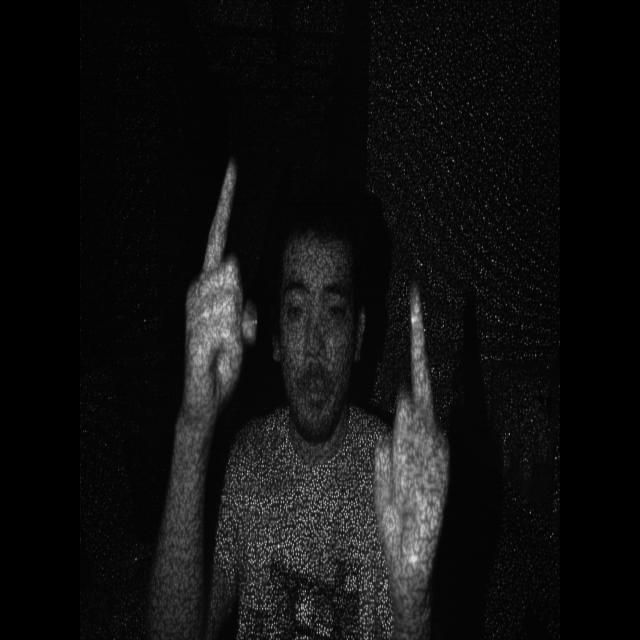STARS: (175, 142, 269, 441), (378, 278, 452, 584)
